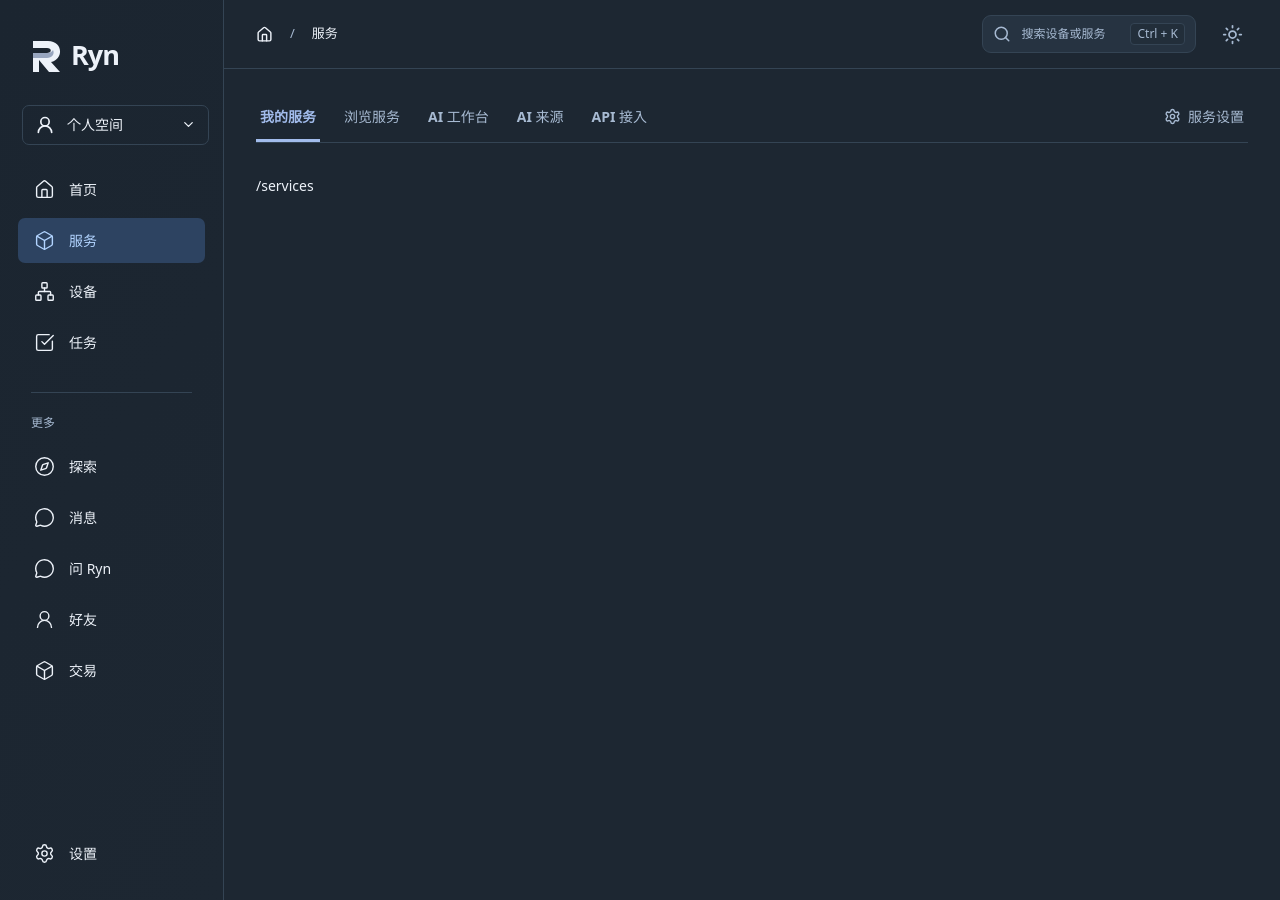
exposes every service destination before setup and preserves the same navigation after each click
The width and height of the screenshot is (1280, 900).
Click the link "我的服务". click: (288, 118)
box: [256,94,320,142]
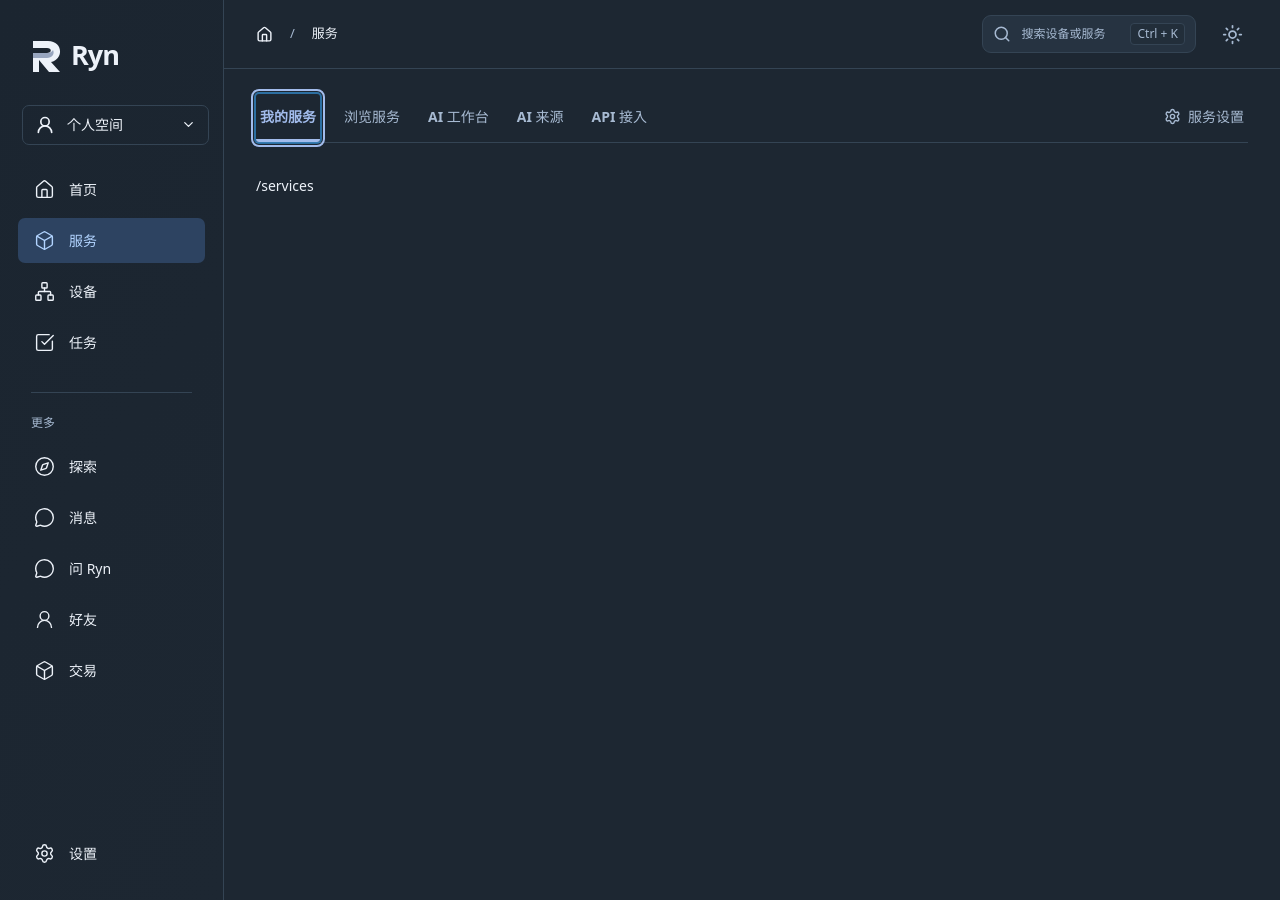
Expected: the text named "当前路径" reads "/services", [256,176,314,195]
Click the link "浏览服务". click: (372, 116)
box: [344,107,400,126]
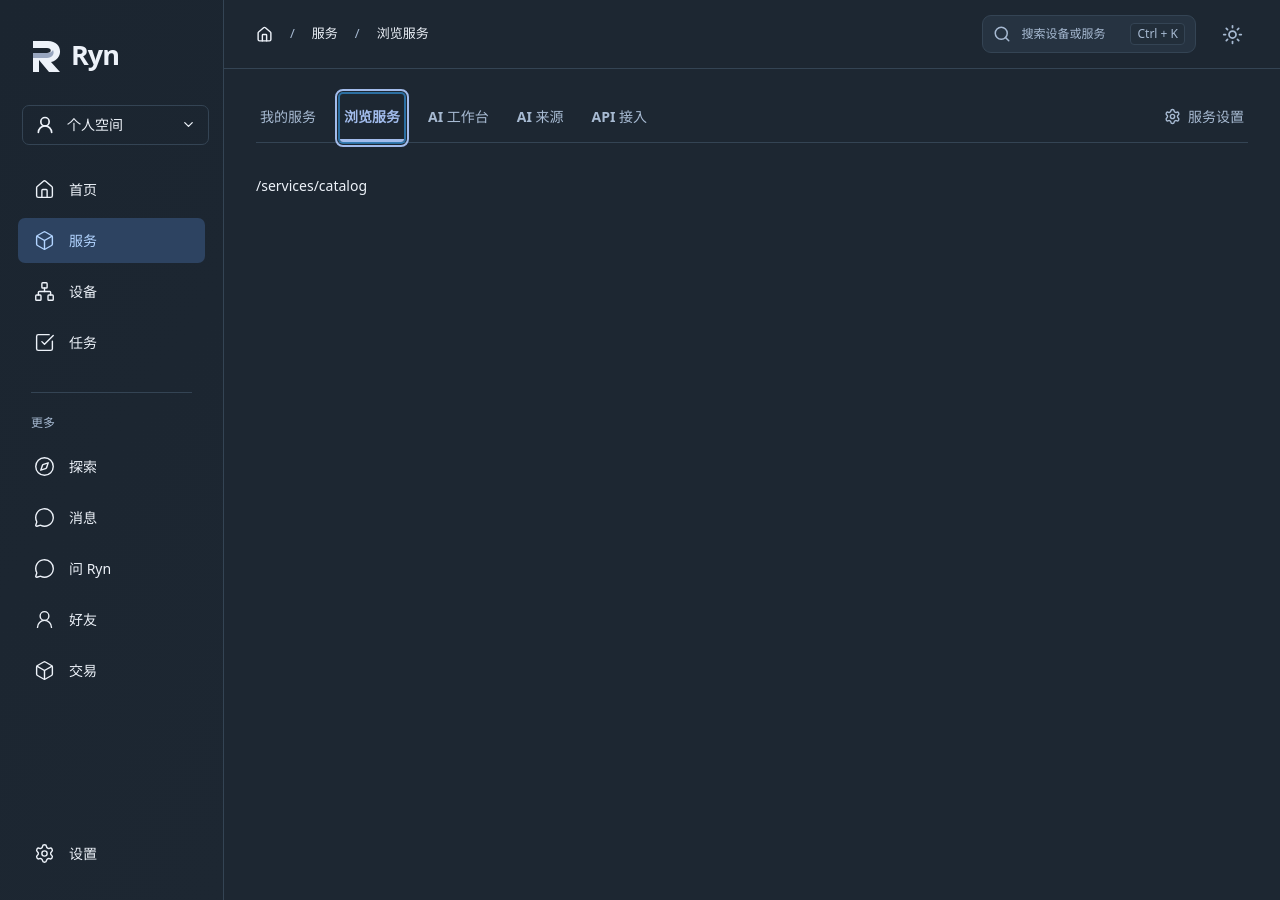
Expected: the text named "当前路径" reads "/services/catalog", [256,176,367,195]
Expected: the links read "我的服务", "浏览服务", "AI 工作台", "AI 来源", "API 接入", "服务设置", in this order
Click the link "AI 工作台". click: (458, 116)
box: [428,107,489,126]
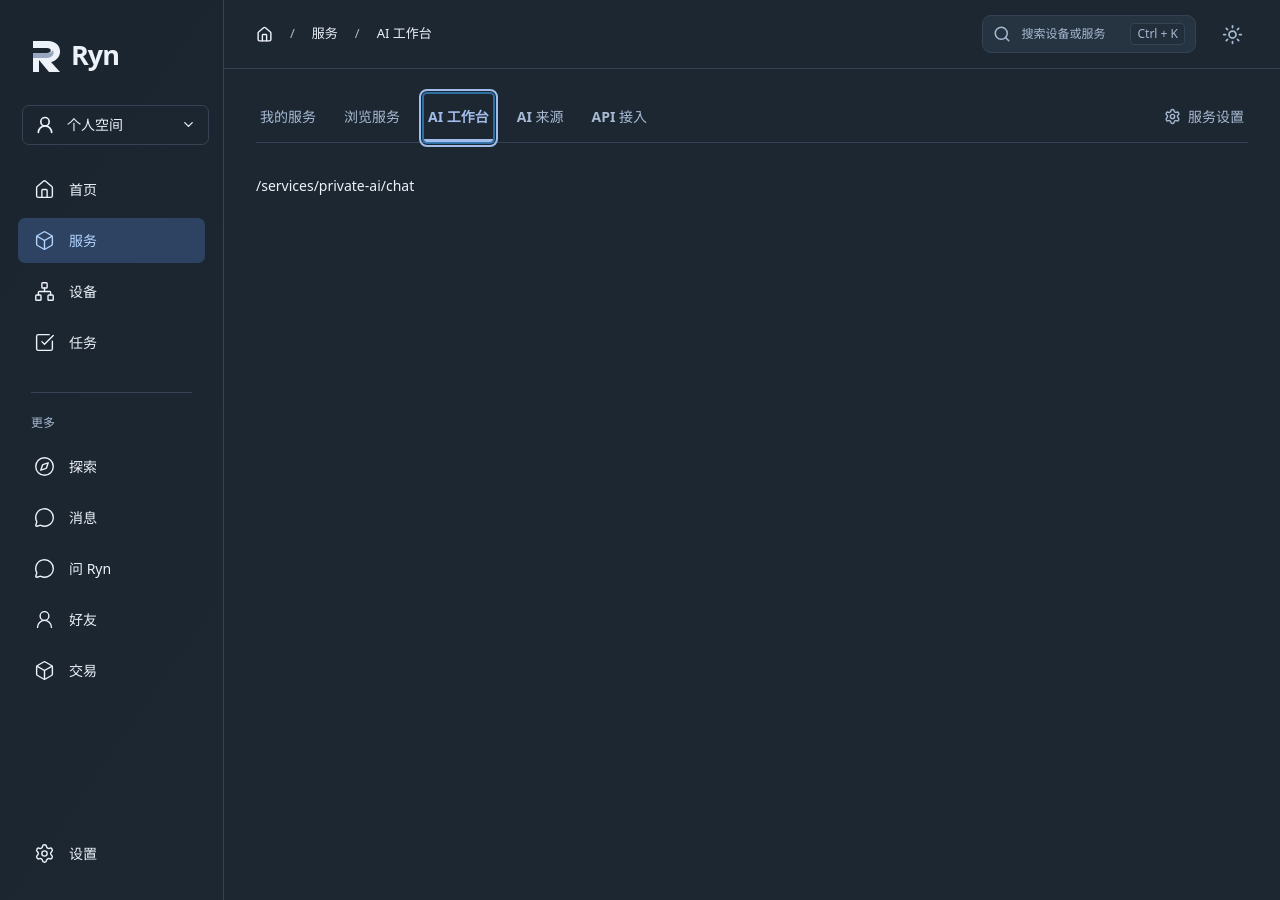
Expected: the text named "当前路径" reads "/services/private-ai/chat", [256,176,414,195]
Expected: the links read "我的服务", "浏览服务", "AI 工作台", "AI 来源", "API 接入", "服务设置", in this order
Click the link "AI 来源". click: (540, 116)
box: [517,107,564,126]
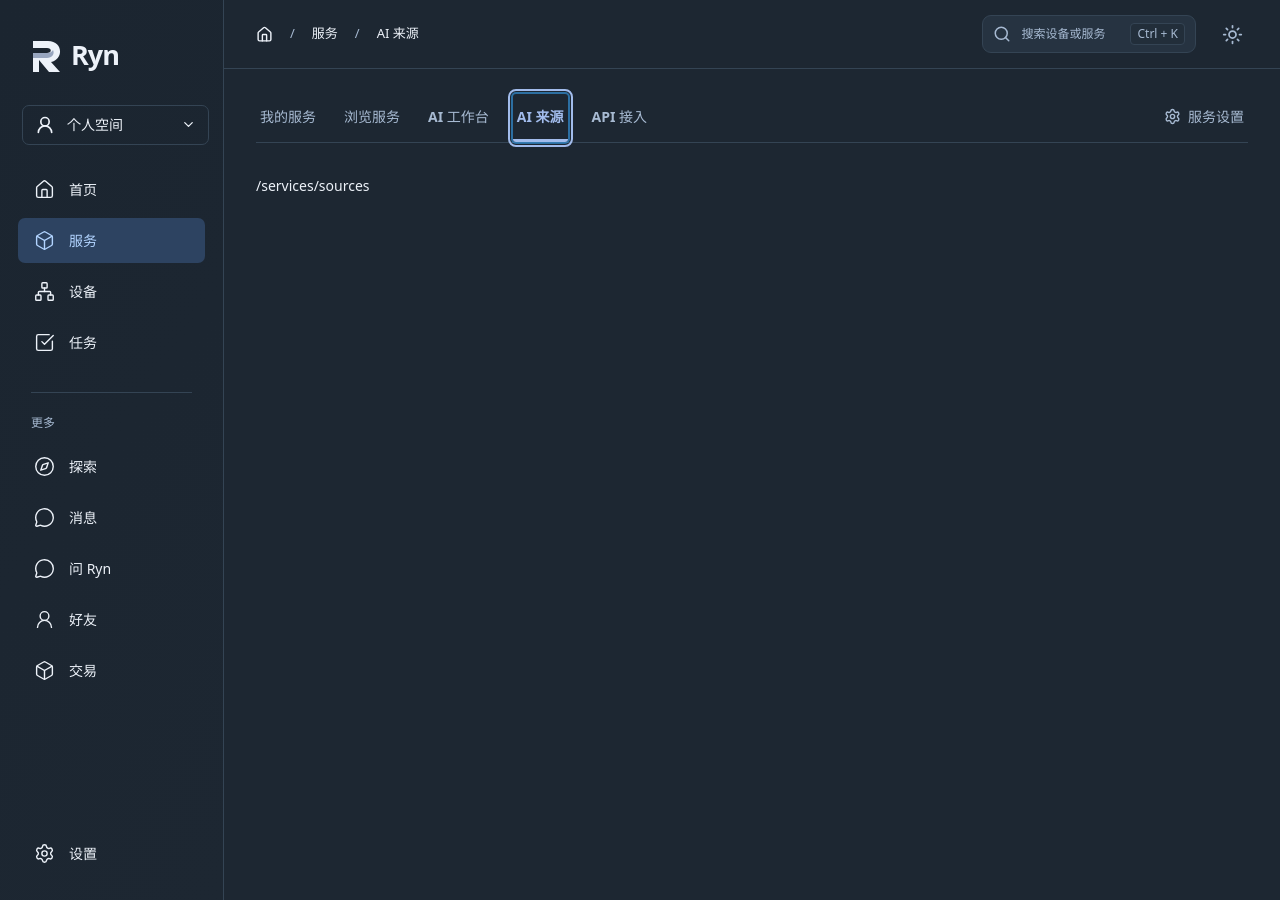
Expected: the text named "当前路径" reads "/services/sources", [256,176,370,195]
Expected: the links read "我的服务", "浏览服务", "AI 工作台", "AI 来源", "API 接入", "服务设置", in this order
Click the link "API 接入". click: (619, 116)
box: [592,107,647,126]
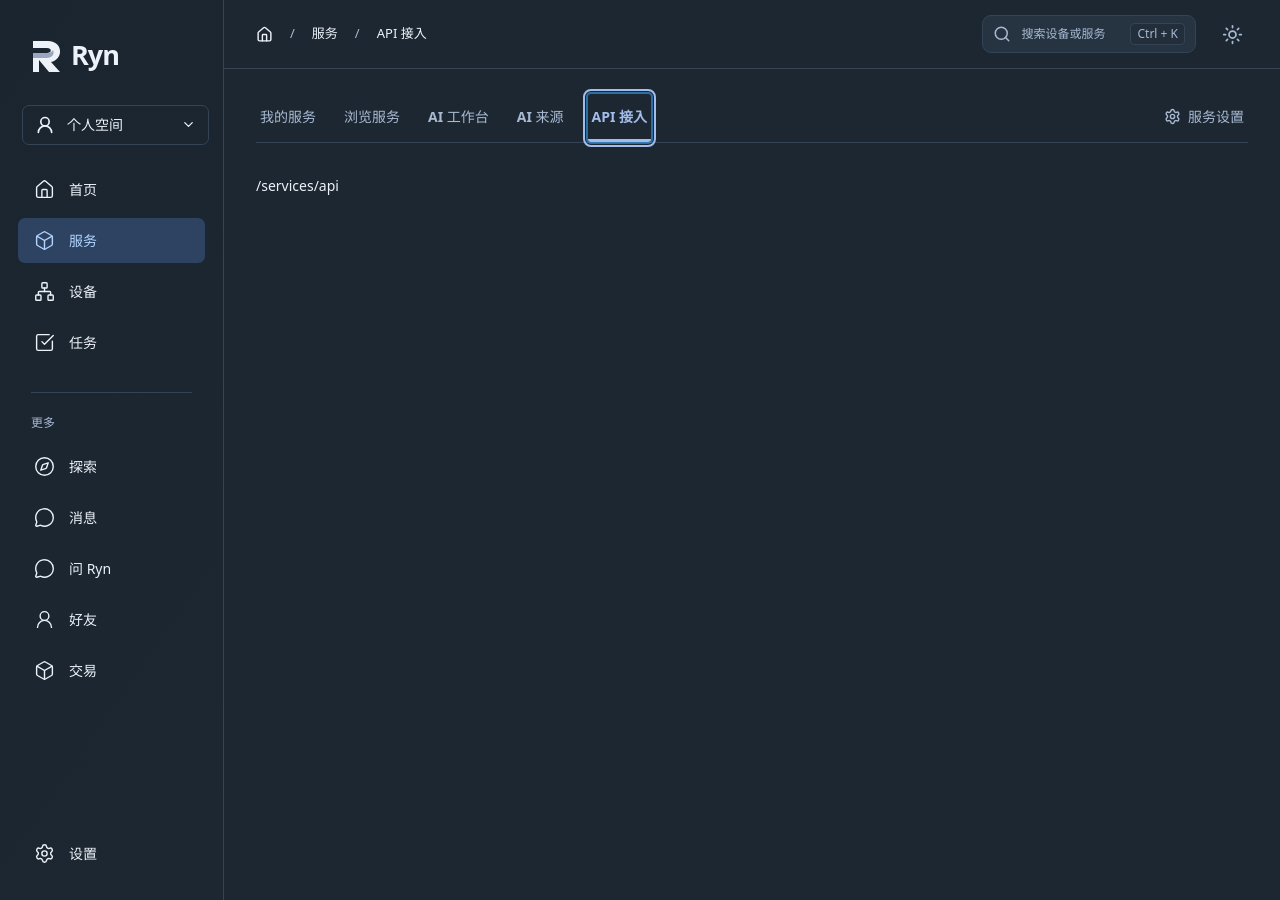
Expected: the text named "当前路径" reads "/services/api", [256,176,339,195]
Expected: the links read "我的服务", "浏览服务", "AI 工作台", "AI 来源", "API 接入", "服务设置", in this order
Click the link "服务设置". click: (1204, 116)
box: [1164,107,1244,126]
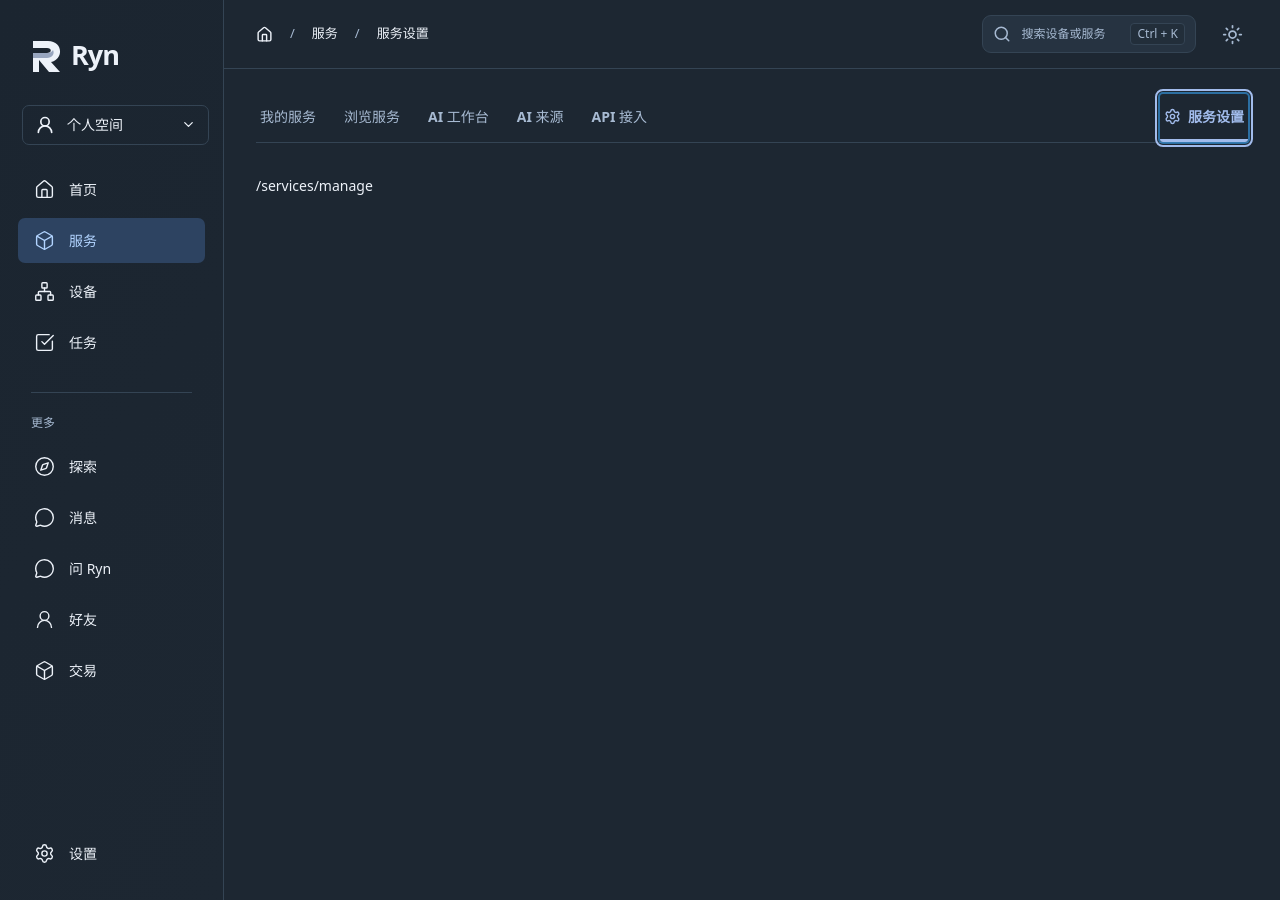
Expected: the text named "当前路径" reads "/services/manage", [256,176,373,195]
